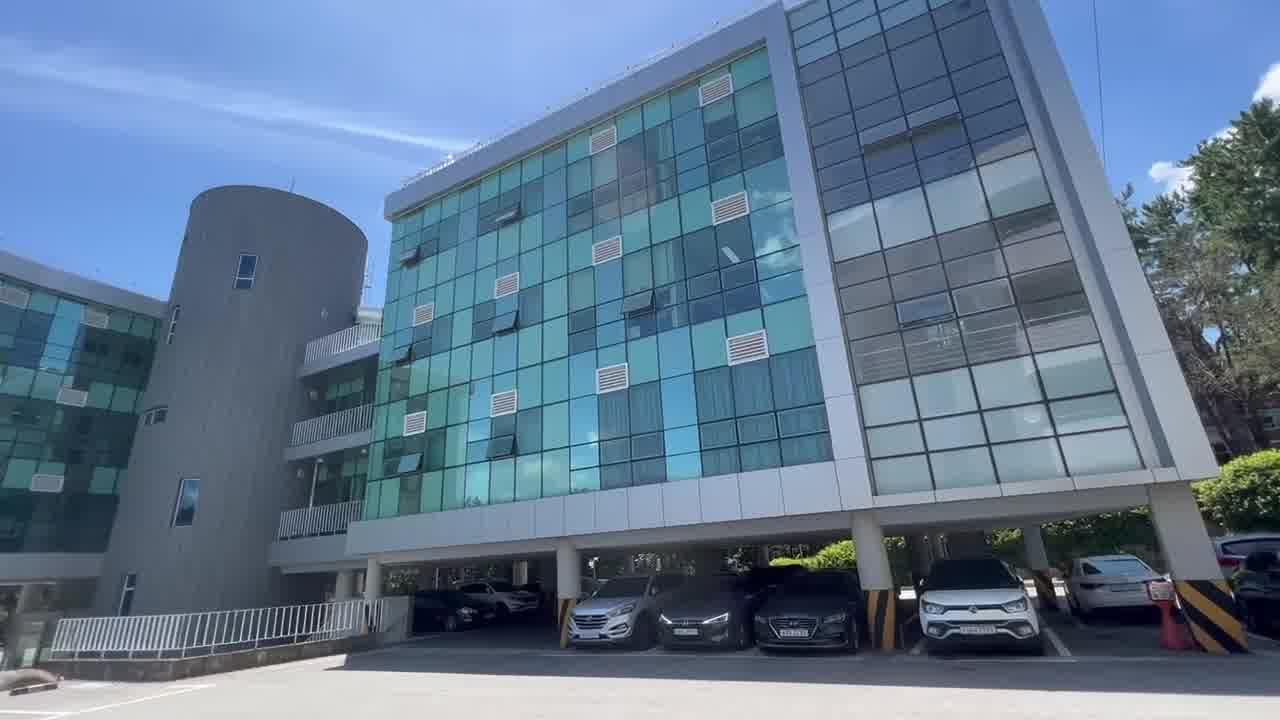building: (0, 0, 1180, 532)
